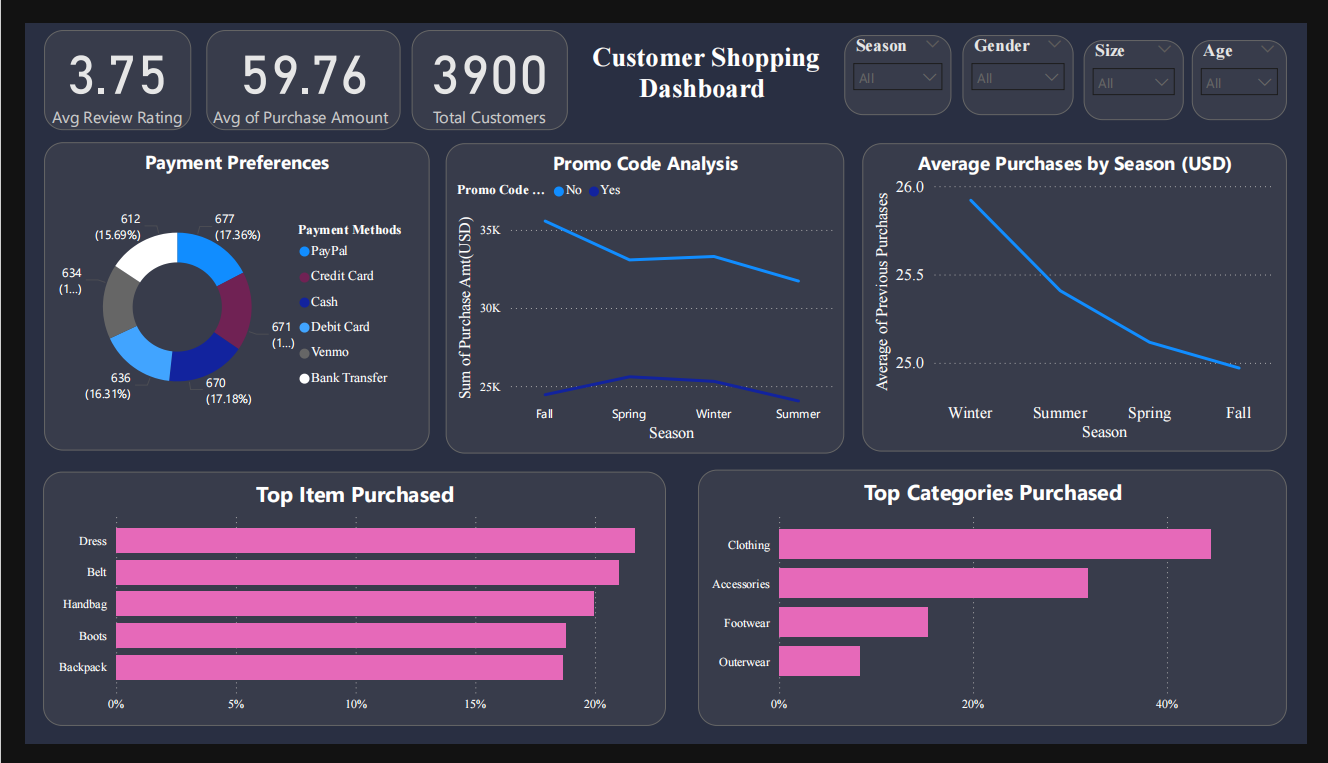

Layout of this report page (visuals, bound fields, positions):
{"tool":"powerbi","page":{"name":"Page 1","canvas":[1280,720],"ordinal":0},"visuals":[{"type":"textbox","box":[556,12,248,90],"z":0},{"type":"barChart","title":"Top Categories Purchased","fields":{"Category":["shopping_trends.Category"],"Y":["Divide(CountNonNull(shopping_trends.Item Purchased), ScopedEval(CountNonNull(shopping_trends.Item Purchased), []))"]},"box":[672,446,588,256],"z":1000},{"type":"lineChart","title":"Average Purchases by Season (USD)","fields":{"Y":["Avg(shopping_trends.Previous Purchases)"],"Category":["shopping_trends.Season"]},"box":[836,120,424,308],"z":2000},{"type":"donutChart","title":"Payment Preferences","fields":{"Category":["shopping_trends.Preferred Payment Method"],"Y":["CountNonNull(shopping_trends.Payment Method)"]},"box":[19,119,385,308],"z":3000},{"type":"barChart","title":"Top Item Purchased","fields":{"Y":["Divide(CountNonNull(shopping_trends.Item Purchased), ScopedEval(CountNonNull(shopping_trends.Item Purchased), []))"],"Category":["shopping_trends.Item Purchased"]},"box":[18.3,448.3,621.7,253.3],"z":4000},{"type":"lineChart","title":"Promo Code Analysis ","fields":{"Category":["shopping_trends.Season"],"Y":["Sum(shopping_trends.Purchase Amount (USD))"],"Series":["shopping_trends.Promo Code Used"]},"box":[420,120,398,310],"z":5000},{"type":"card","fields":{"Values":["Avg(shopping_trends.Review Rating)"]},"box":[19,7,147,100],"z":6000},{"type":"card","fields":{"Values":["Avg(shopping_trends.Purchase Amount (USD))"]},"box":[181,7,194,100],"z":7000},{"type":"slicer","fields":{"Values":["shopping_trends.Gender"]},"box":[936,12,111,80],"z":8000},{"type":"slicer","fields":{"Values":["shopping_trends.Size"]},"box":[1057,17,100,80],"z":9000},{"type":"slicer","fields":{"Values":["shopping_trends.Age"]},"box":[1165,17,95,80],"z":10000},{"type":"slicer","fields":{"Values":["shopping_trends.Season"]},"box":[818,12,107,80],"z":11000},{"type":"card","fields":{"Values":["CountNonNull(shopping_trends.Customer ID)"]},"box":[386,7,156,100],"z":12000}]}

Visuals, with their boxes in screenshot pixels (x1, y1, x2, y2), scaled from the page's 1280x720 canvas onto the 1328x763 screenshot:
textbox: (577,13,834,108)
"Top Categories Purchased" barChart: (697,473,1307,744)
"Average Purchases by Season (USD)" lineChart: (867,127,1307,454)
"Payment Preferences" donutChart: (20,126,419,453)
"Top Item Purchased" barChart: (19,475,664,744)
"Promo Code Analysis " lineChart: (436,127,849,456)
card - Avg(shopping_trends.Review Rating): (20,7,172,113)
card - Avg(shopping_trends.Purchase Amount (USD)): (188,7,389,113)
slicer - shopping_trends.Gender: (971,13,1086,97)
slicer - shopping_trends.Size: (1097,18,1200,103)
slicer - shopping_trends.Age: (1209,18,1307,103)
slicer - shopping_trends.Season: (849,13,960,97)
card - CountNonNull(shopping_trends.Customer ID): (400,7,562,113)
